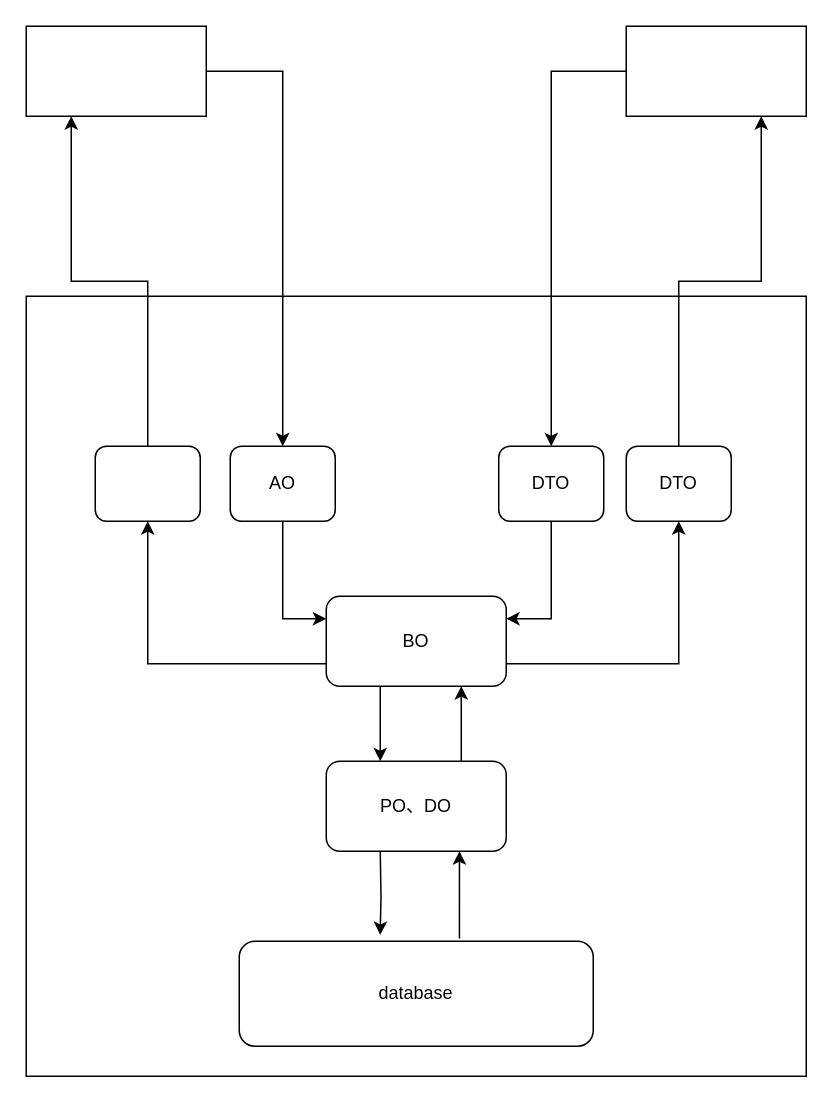
Image size: 833x1103. Some labels were removed from this diagram. Each missing label, with the box of its shape:
api: (625, 25, 806, 116)
VO: (94, 445, 200, 521)
web: (25, 25, 206, 116)
